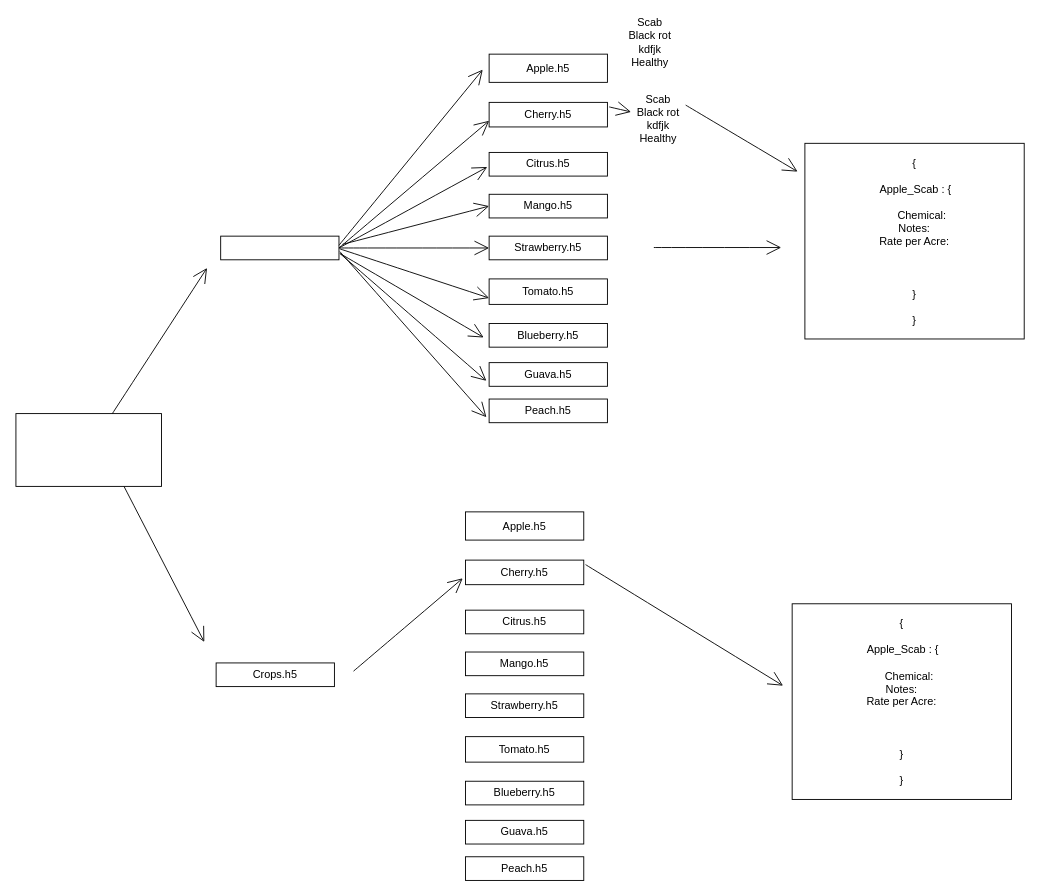
Some shapes in this 1040 by 896 pixel diagram are drawn without their labels. The centre of each missing label's shape, as x and y in pixels:
All.h5: point 88,449
Fruits.h5: point 279,247
